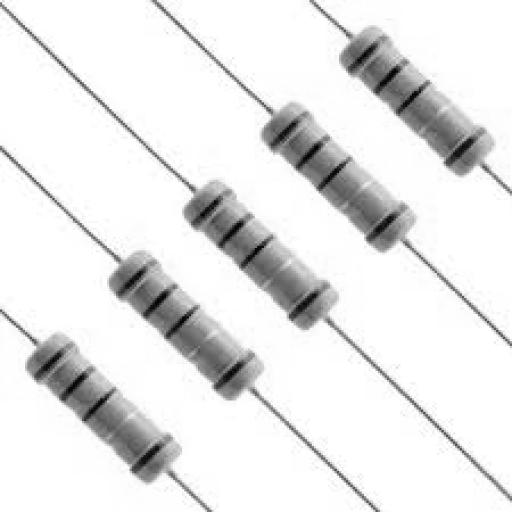RESISTOR: (197, 103, 455, 265), (135, 178, 358, 349), (301, 18, 494, 209), (4, 332, 210, 499), (79, 232, 272, 410)
